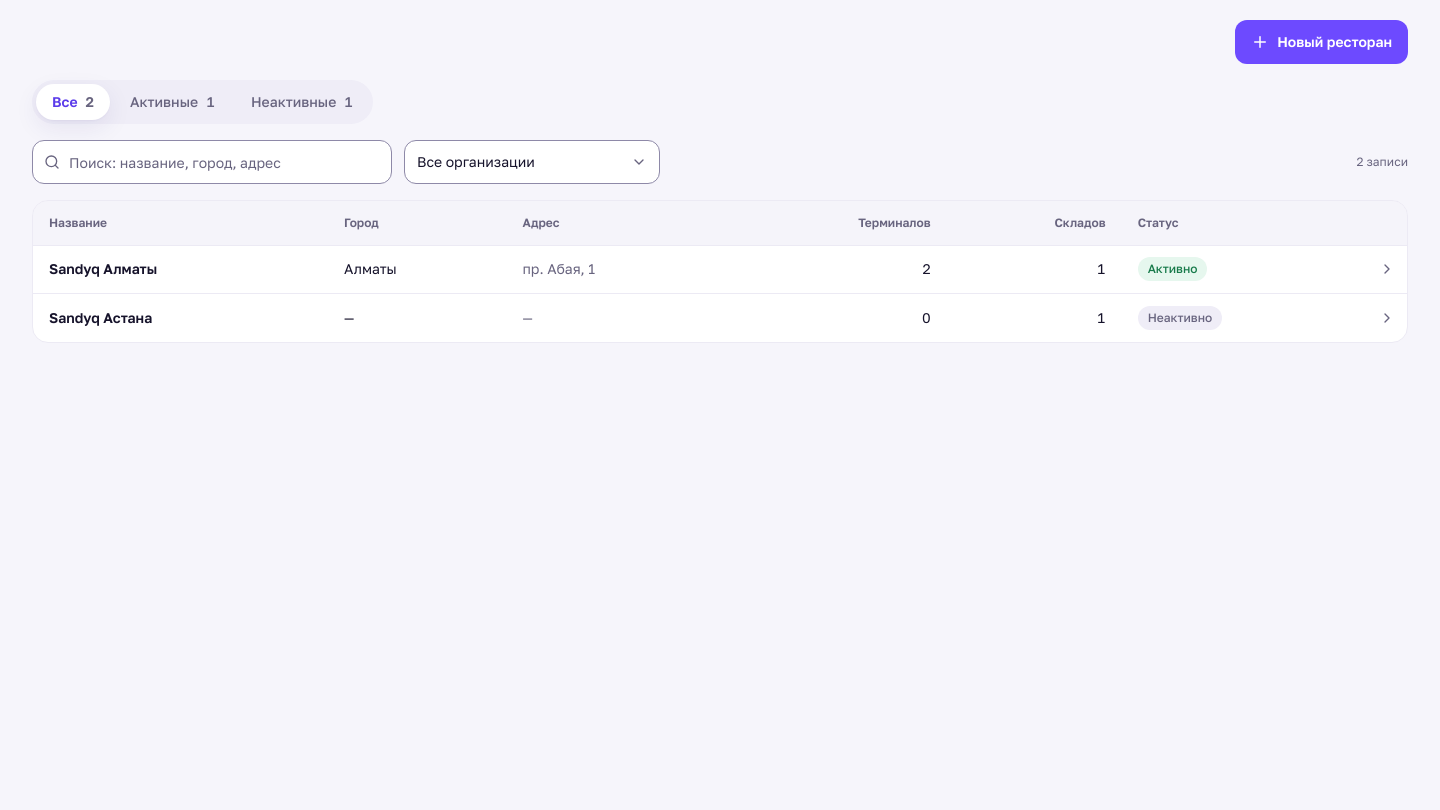
Test: «Рестораны» (W2-ADM-07) › disabling with an open shift shows the server refusal in the dialog
Click the text "Sandyq Алматы": (103, 269) [49,260,157,277]
(page scrolled)
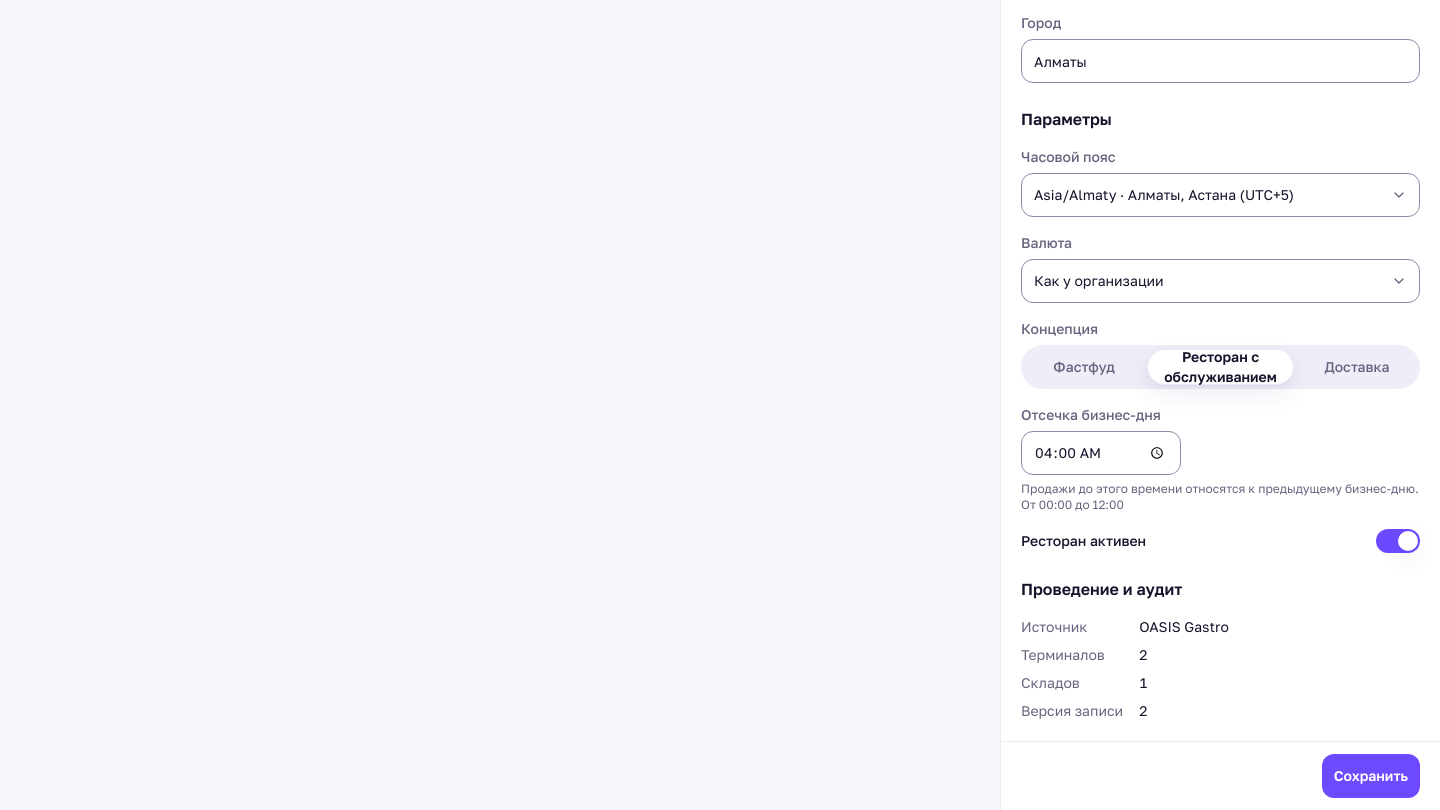
Click the switch named "Ресторан активен": (1398, 541) [1376,529,1420,553]
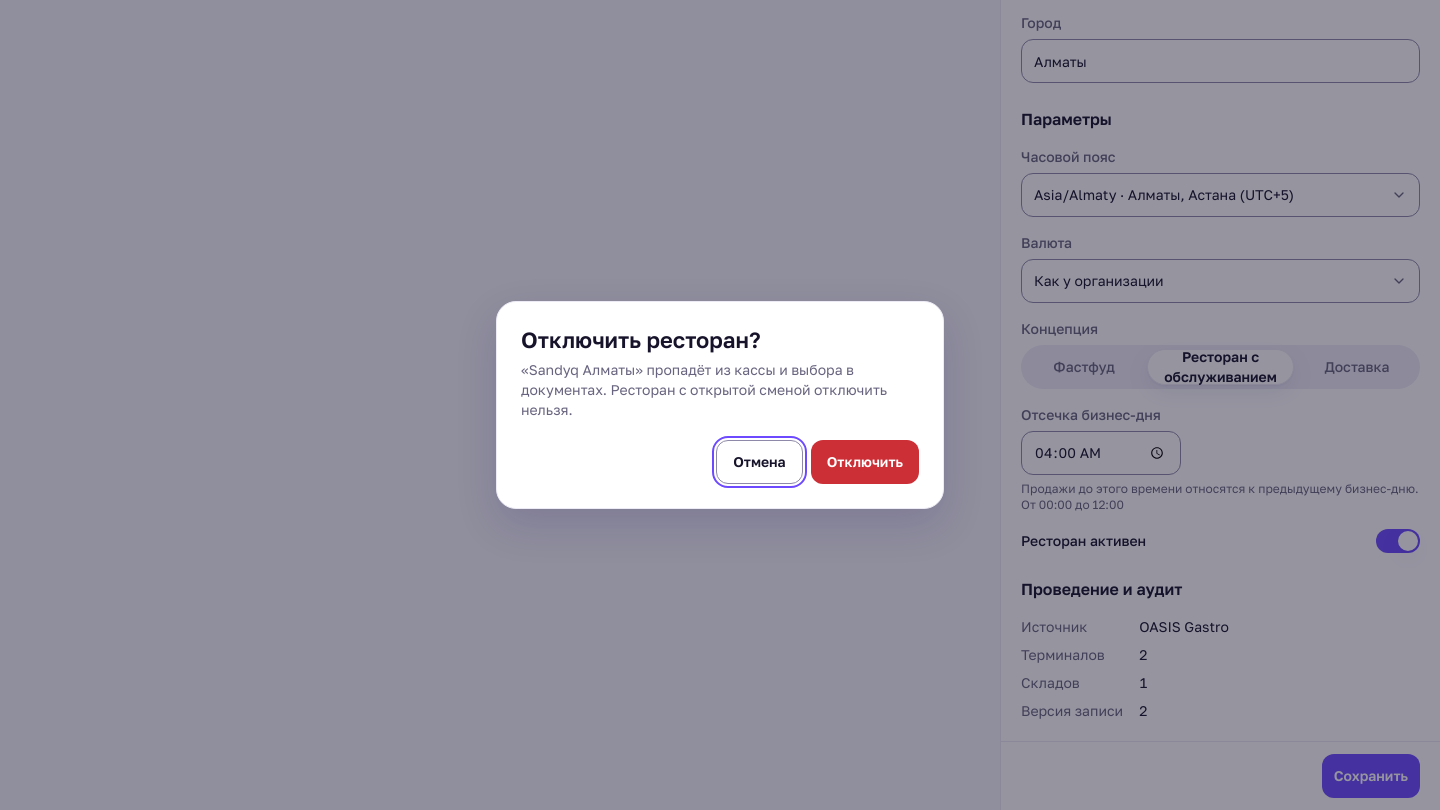
Click the button "Отключить": (865, 462) [811,440,919,484]
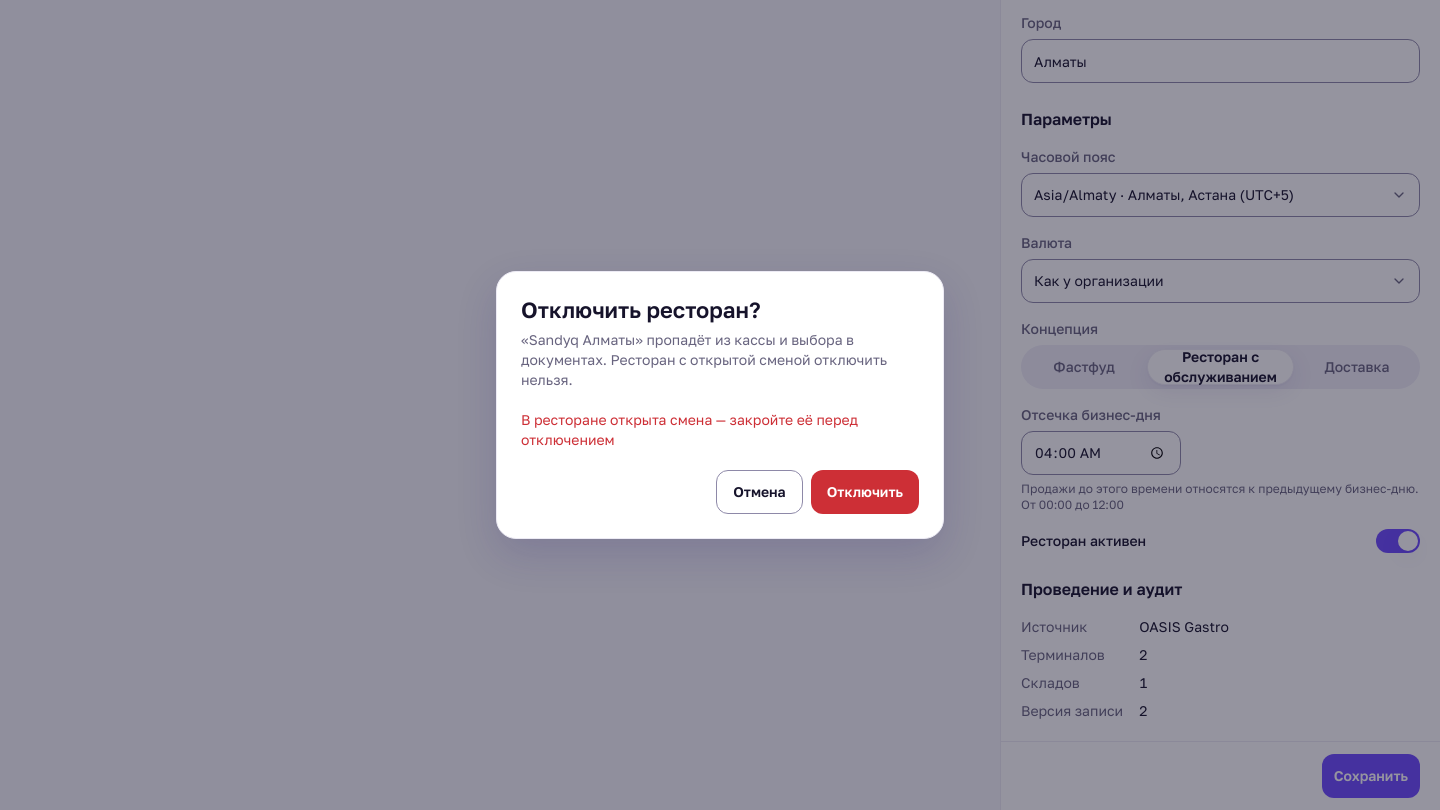
Expected: the text "В ресторане открыта смена — закройте её перед отключением" is shown, [521,411,858,448]
